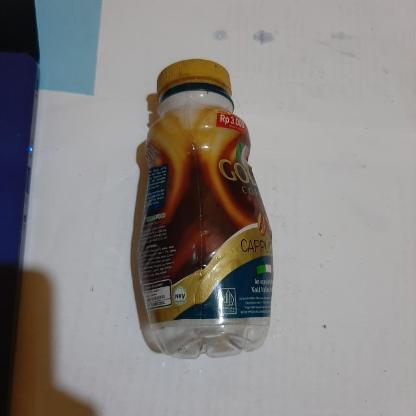Plastic Bottle: (136, 60, 274, 358)
